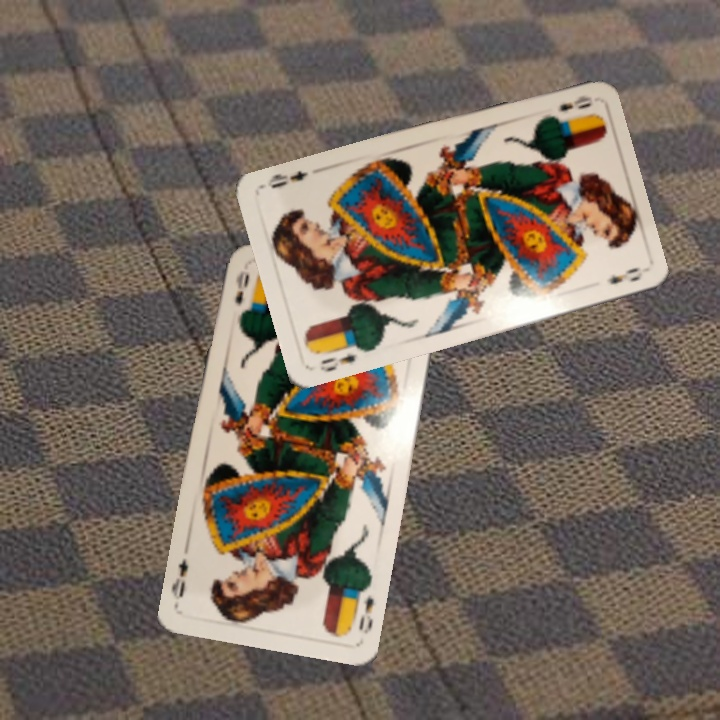EO: (316, 350, 359, 375), (354, 592, 377, 636), (555, 91, 596, 114), (231, 266, 251, 308)
